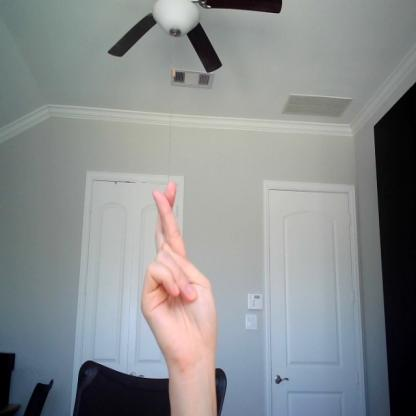R: (144, 182, 220, 364)
